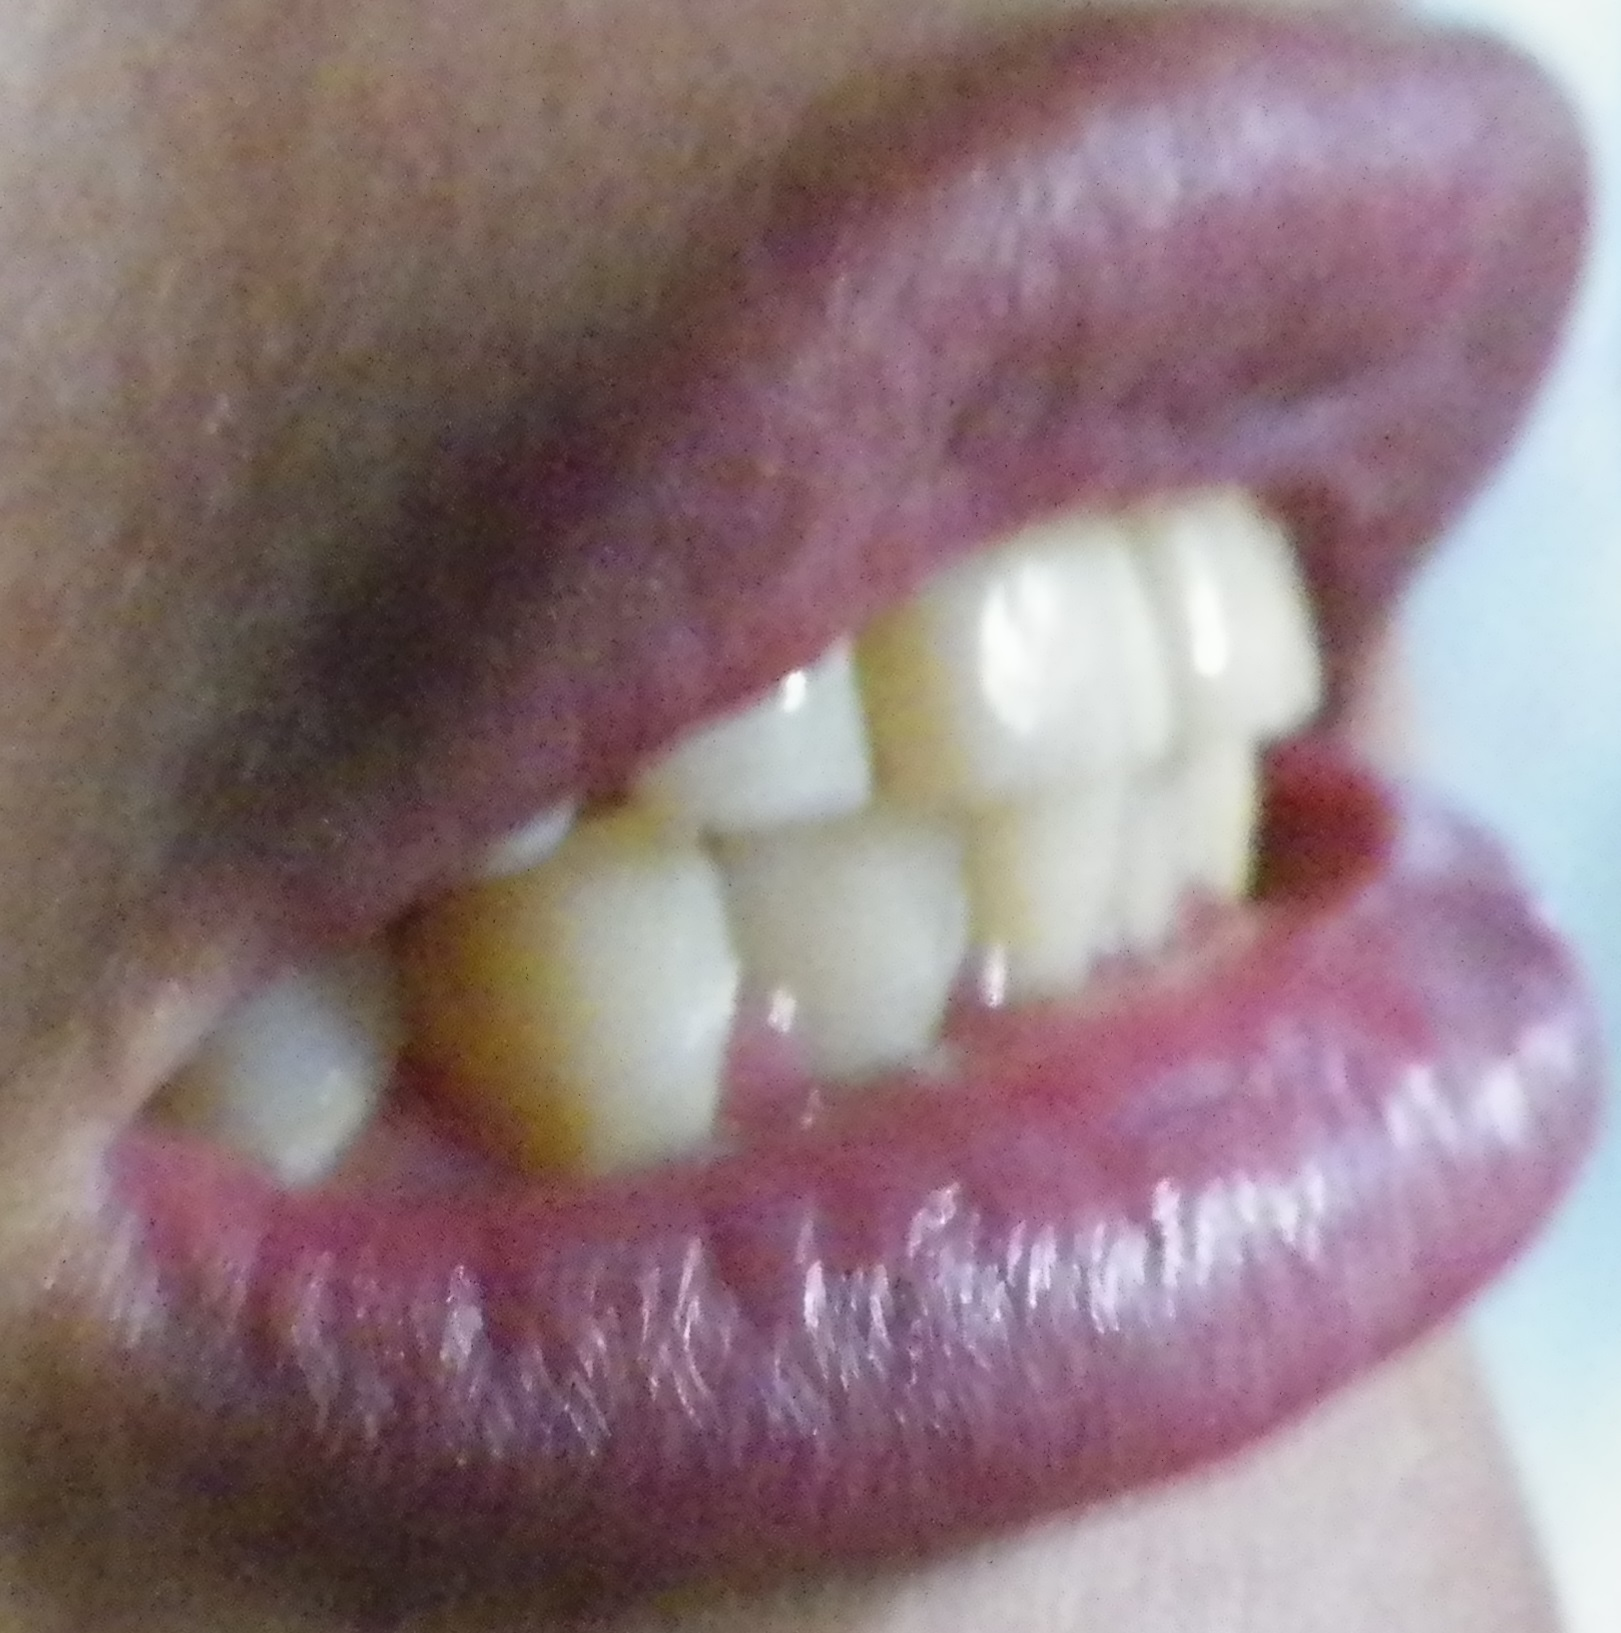boca: (116, 517, 1333, 1189)
